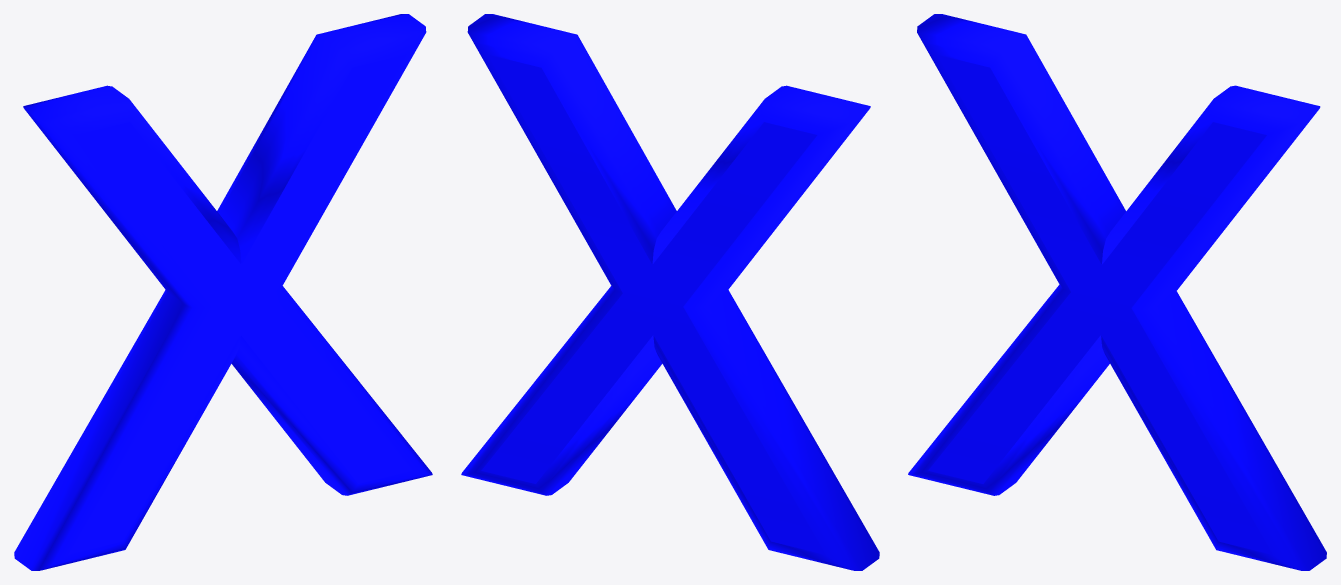
File: 060c2e9d-90b9-47be-b008-4bcf2432101c.glb
3 views of the same model, side by side, from view 1: azimuth 30°, elevation 25°; view 2: azimuth 150°, elevation 25°; view 3: azimuth 330°, elevation 25° (orthographic).
Visible parts, largest first — view 1: IndicatorXBlue; view 2: IndicatorXBlue; view 3: IndicatorXBlue.
Part boxes in pixels (x1,y1,x2,y2): IndicatorXBlue: (14, 14, 432, 570); IndicatorXBlue: (461, 14, 879, 570); IndicatorXBlue: (908, 14, 1326, 570).
Bounding box in the file's own units: 0.4438 × 0.4743 × 0.0645.
Materials: 1 (1 with a texture image).
